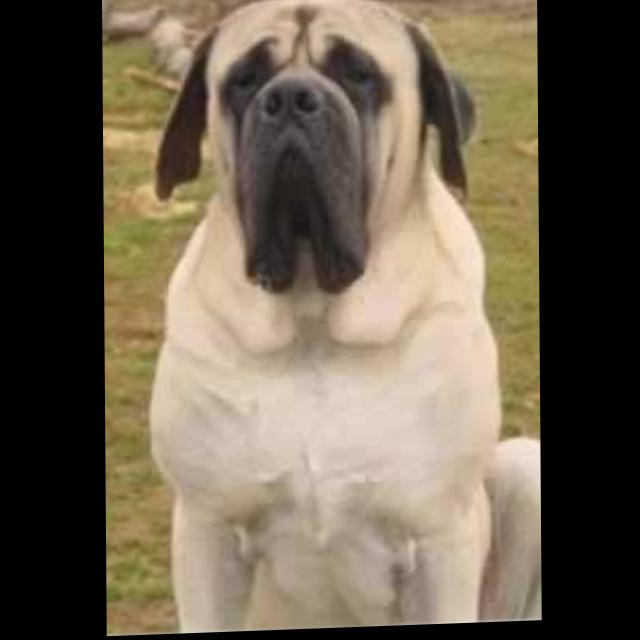mastiff: (148, 1, 542, 636)
